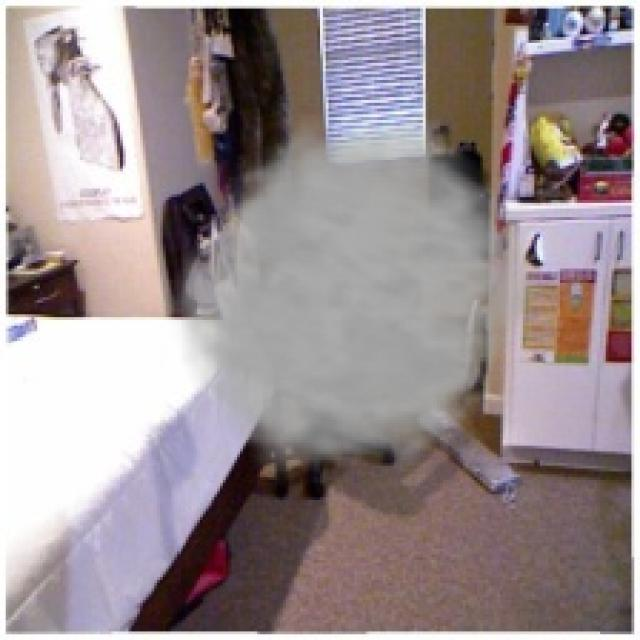smoke: (160, 114, 551, 489)
